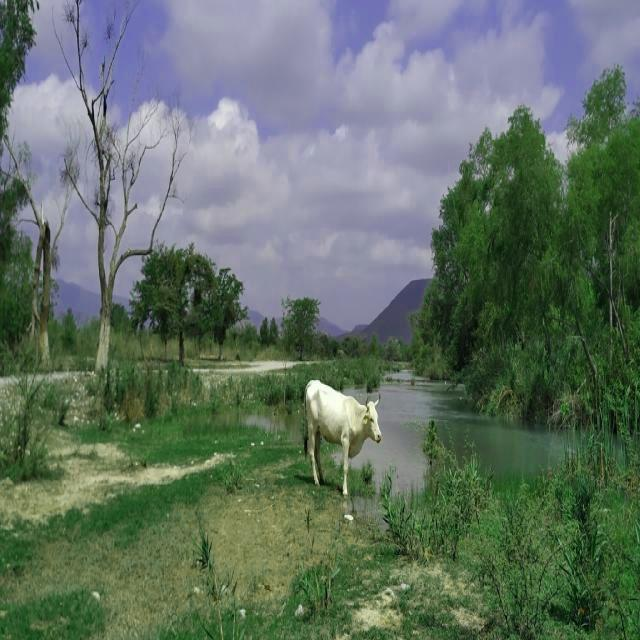cow: (305, 380, 382, 496)
